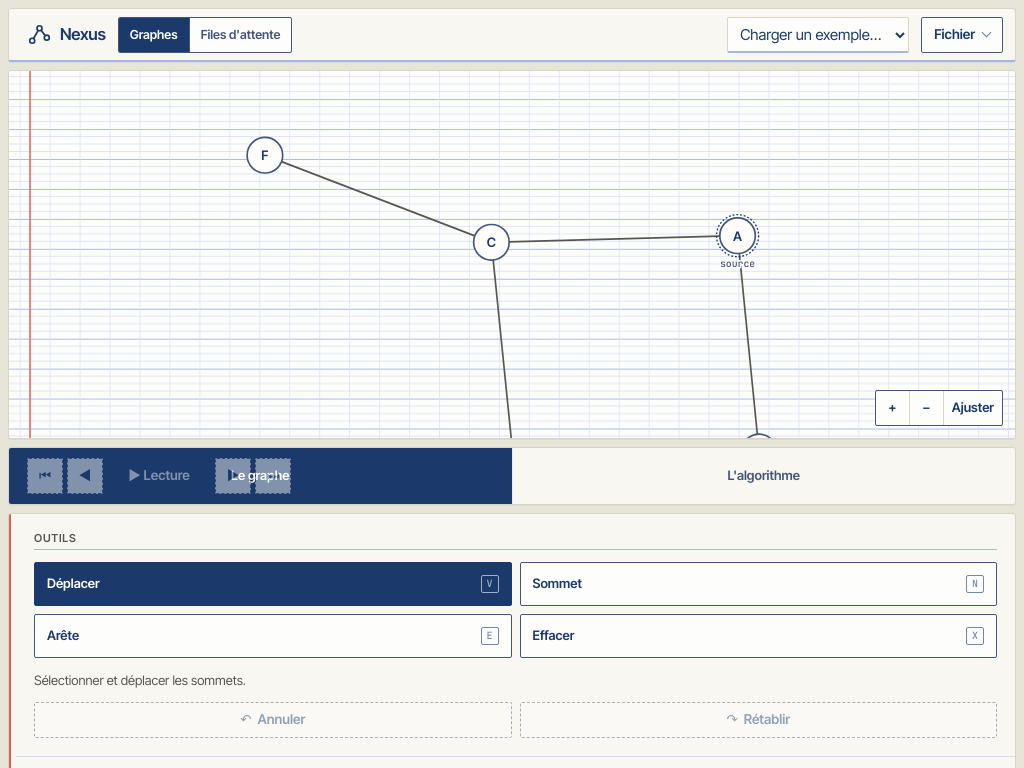
Test: le menu Fichier › explique chaque action en un mot
This screenshot has width=1024, height=768.
Click the button "Fichier" at [962, 34], box [921,16,1003,52]
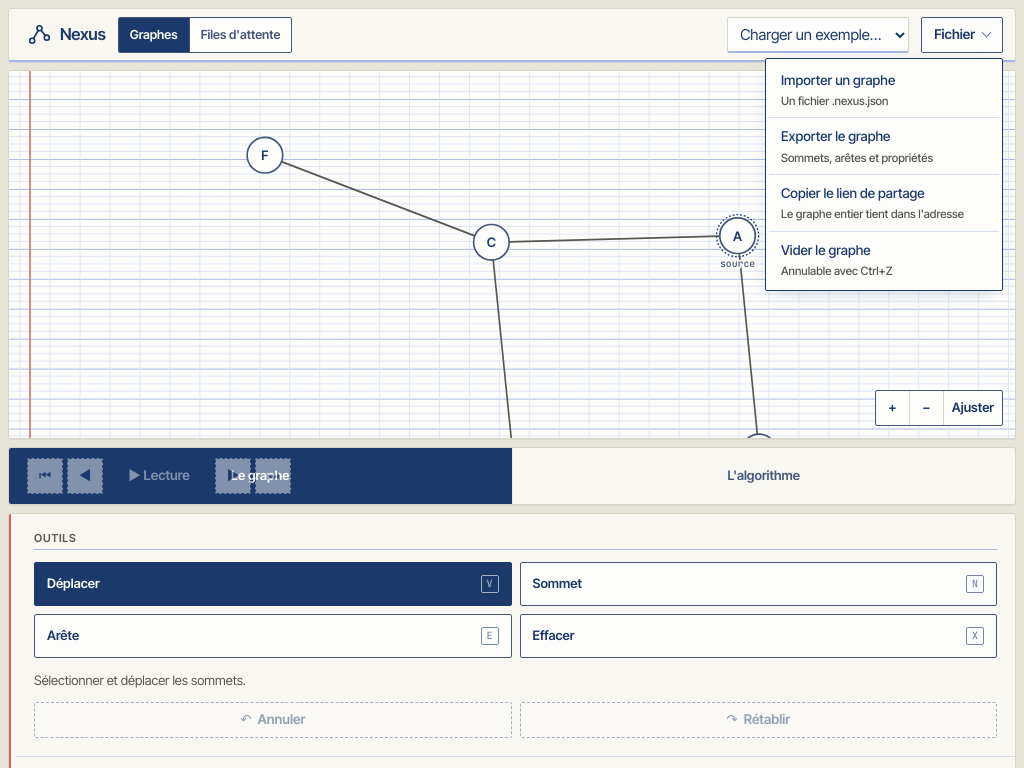
Result: the menu item "Vider le graphe Annulable avec Ctrl+Z" is shown at [769,232,999,287]
